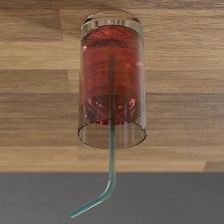drinking_straw: (66, 48, 121, 222)
glass: (73, 3, 152, 154)
